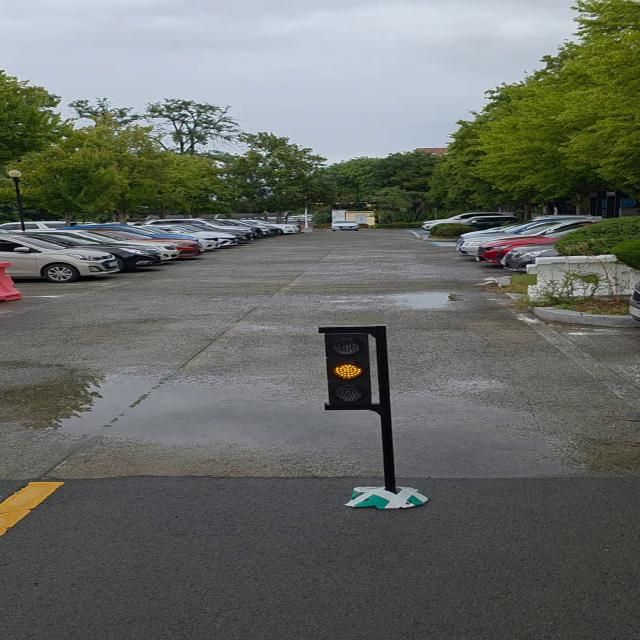yellow: (324, 329, 378, 410)
